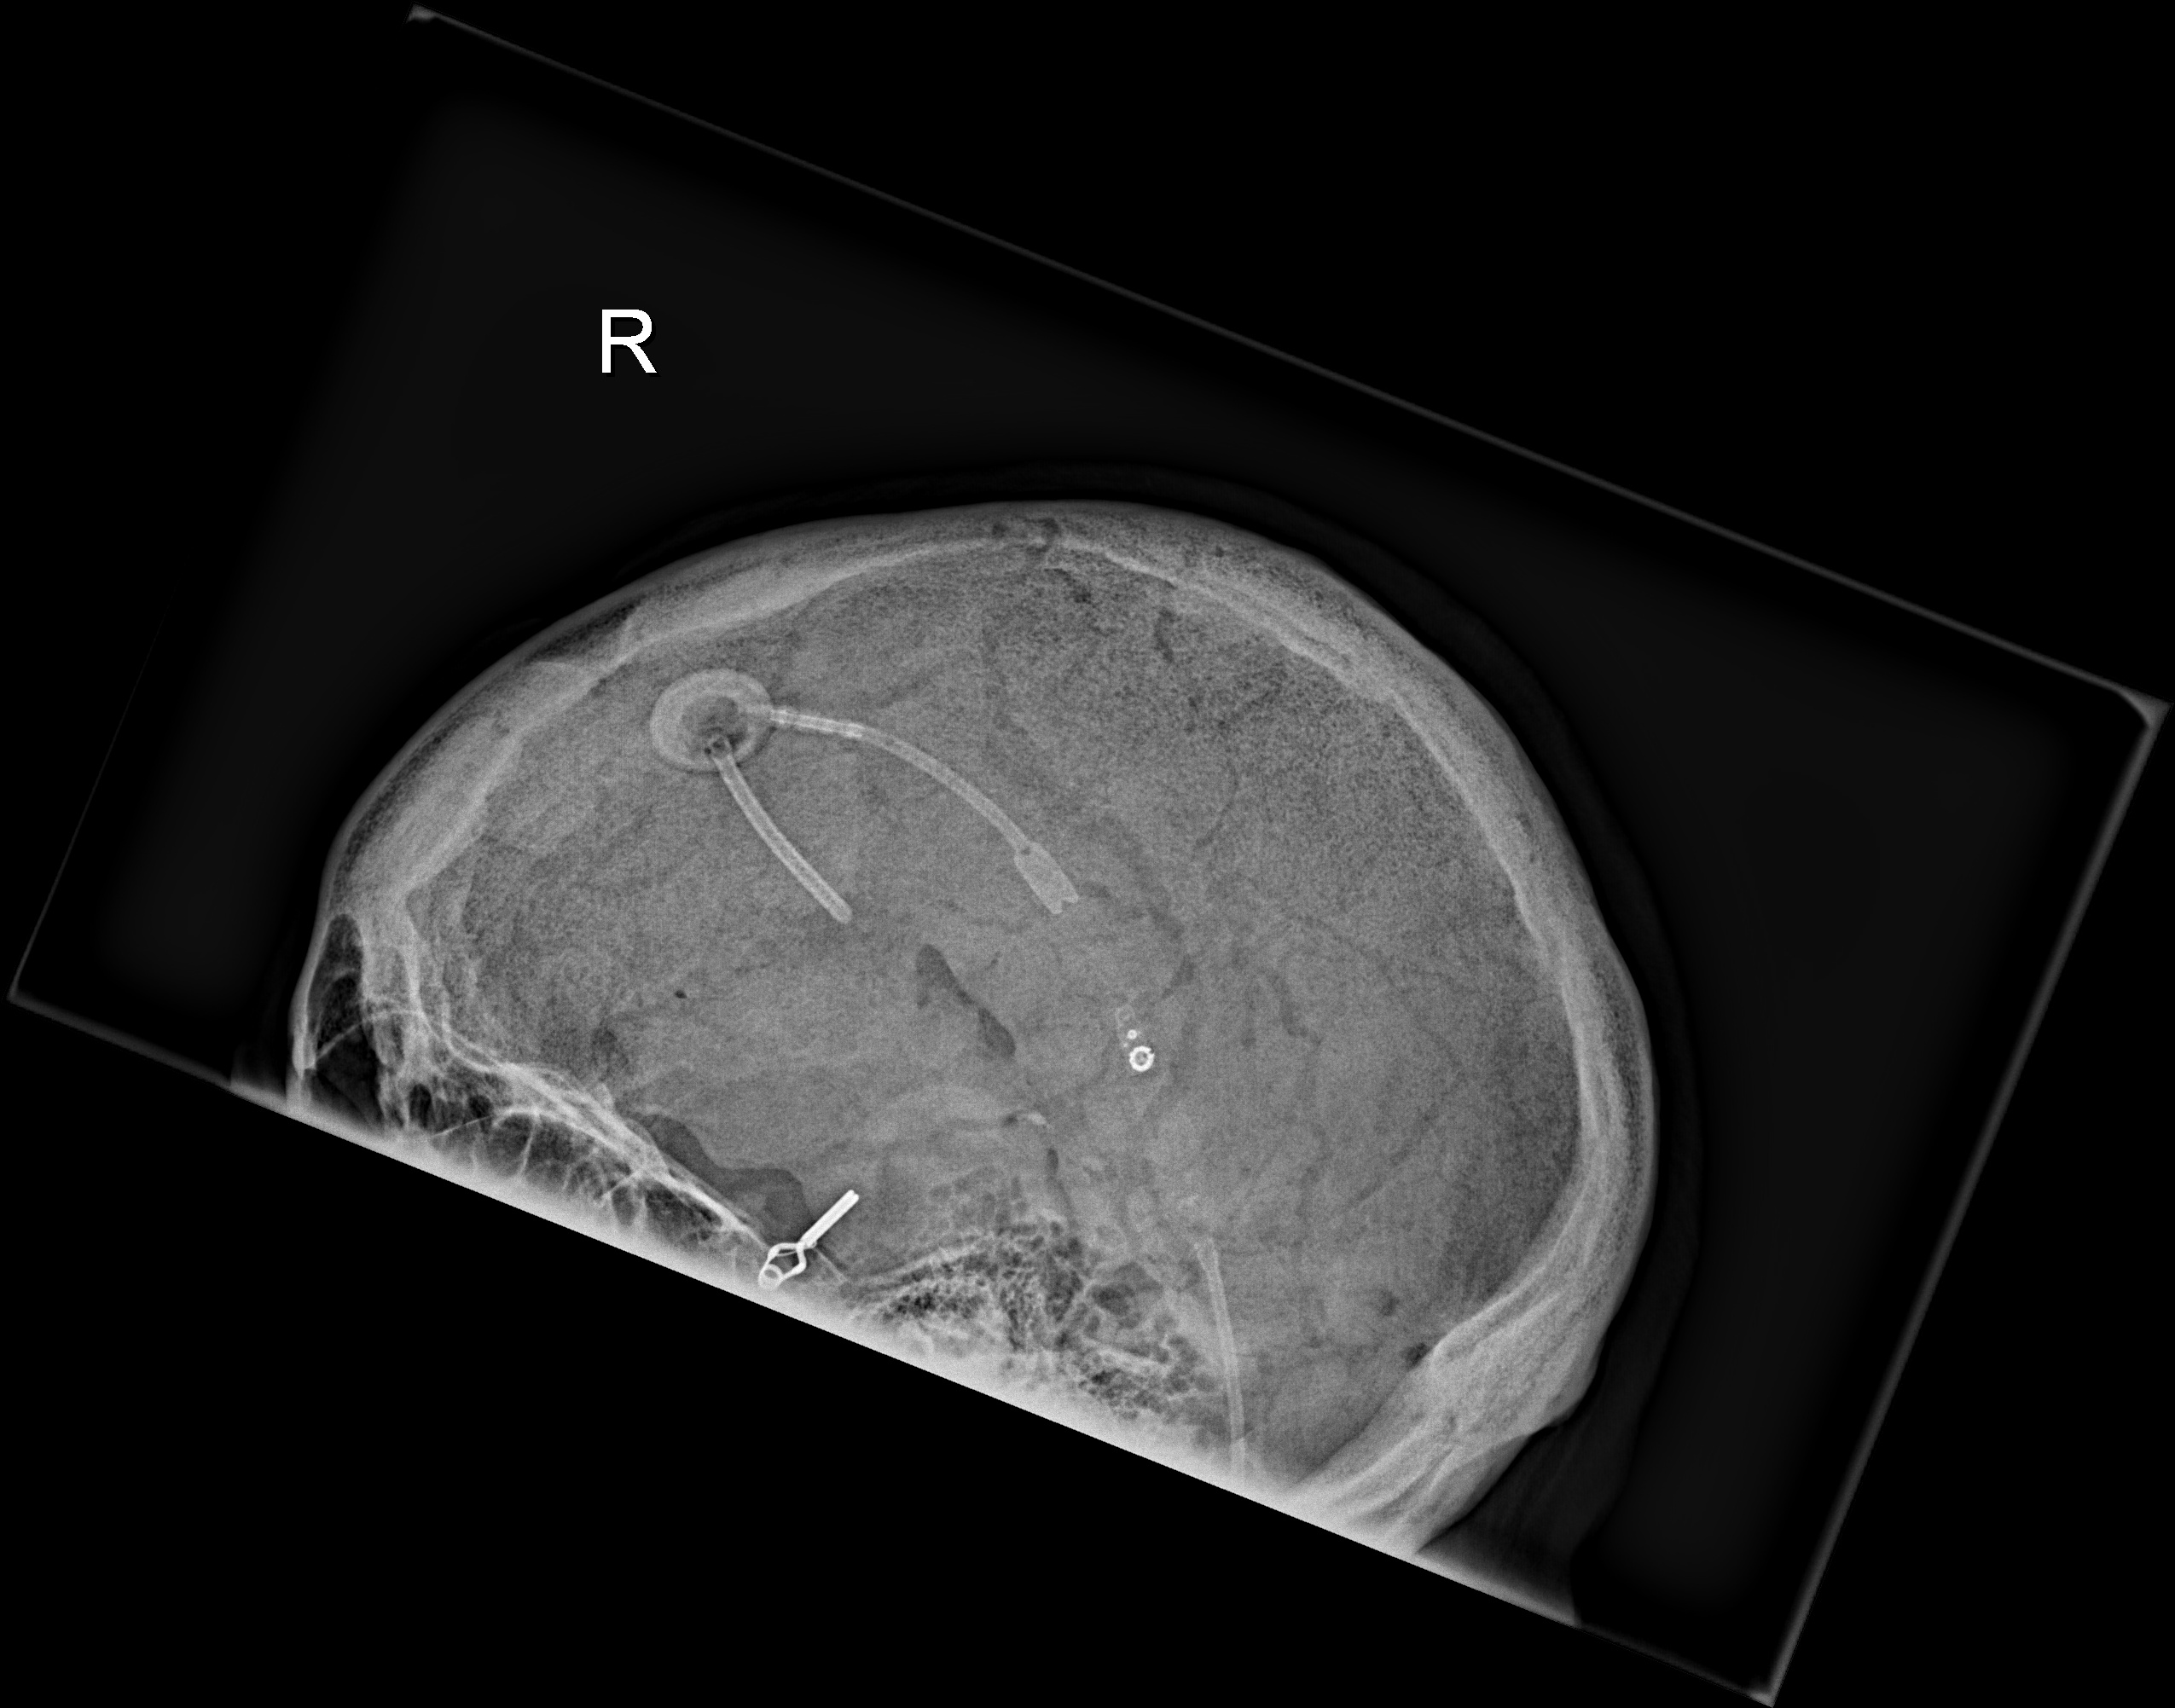Codman Hakim: (1103, 1015, 1169, 1097)
